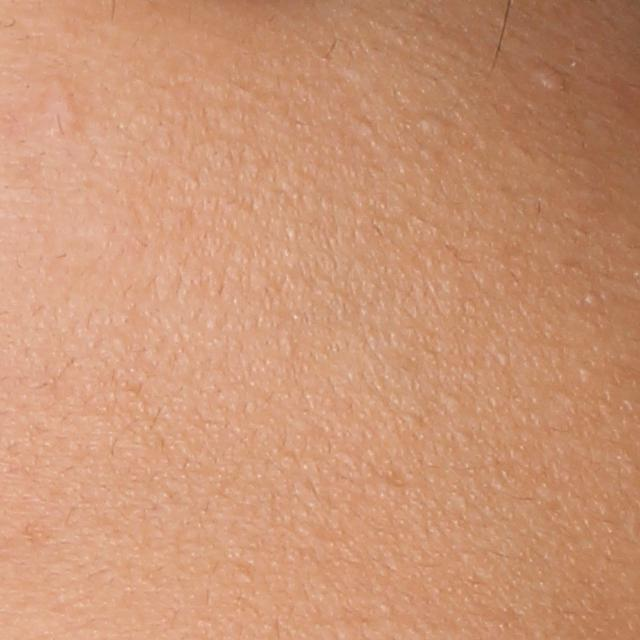comedo: (530, 62, 570, 95), (419, 113, 460, 141)
